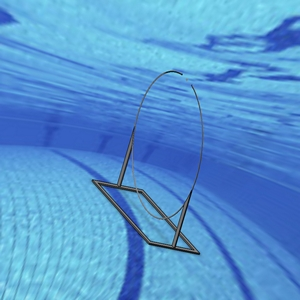circle: (89, 68, 210, 253)
